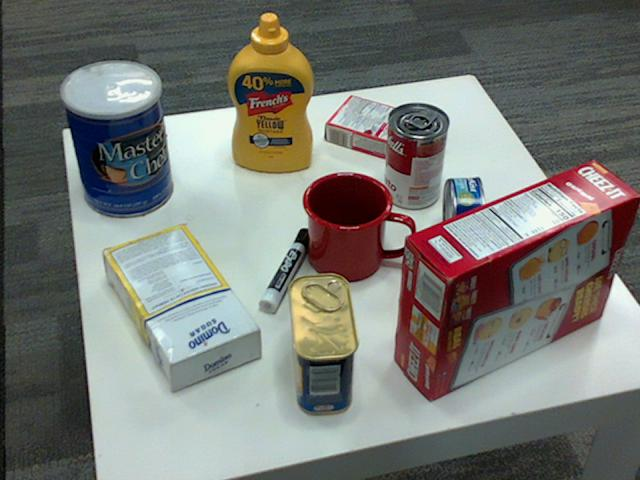cracker_box: (392, 159, 638, 398)
gelatin_box: (327, 95, 413, 157)
large_marker: (257, 229, 312, 317)
master_chef_can: (58, 61, 171, 218)
mug: (301, 169, 412, 278)
mustard_bottle: (227, 14, 313, 172)
potted_meat_can: (288, 274, 359, 414)
sugar_box: (100, 221, 259, 386)
tomato_soup_can: (382, 103, 448, 210)
tuna_fish_can: (441, 176, 484, 256)
